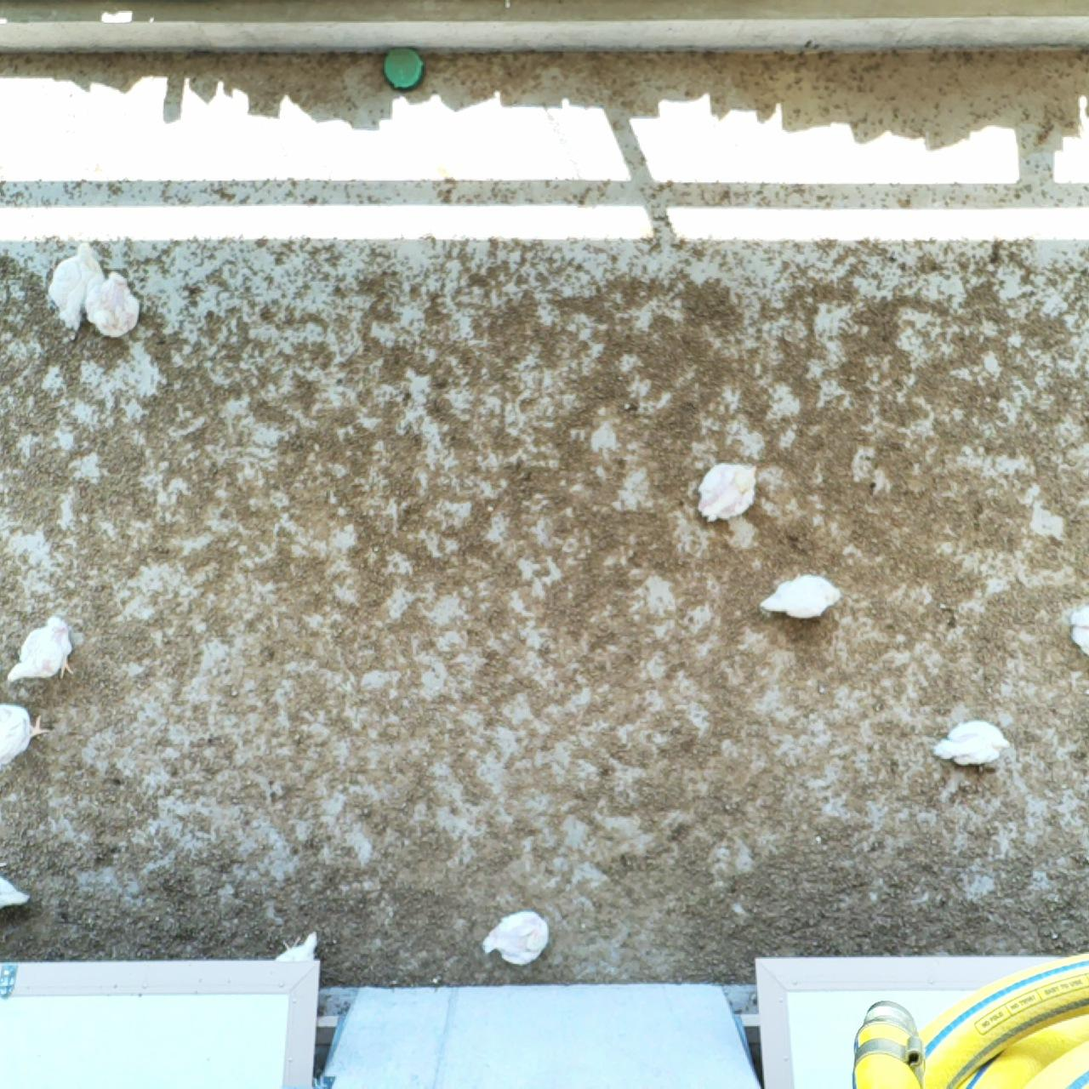chicken: (48, 241, 106, 339), (6, 610, 78, 688), (696, 459, 764, 525), (758, 572, 846, 619), (934, 716, 1012, 769), (84, 268, 142, 338), (481, 909, 550, 967), (0, 699, 46, 765), (270, 928, 322, 965), (0, 873, 36, 914), (1071, 603, 1089, 654)
